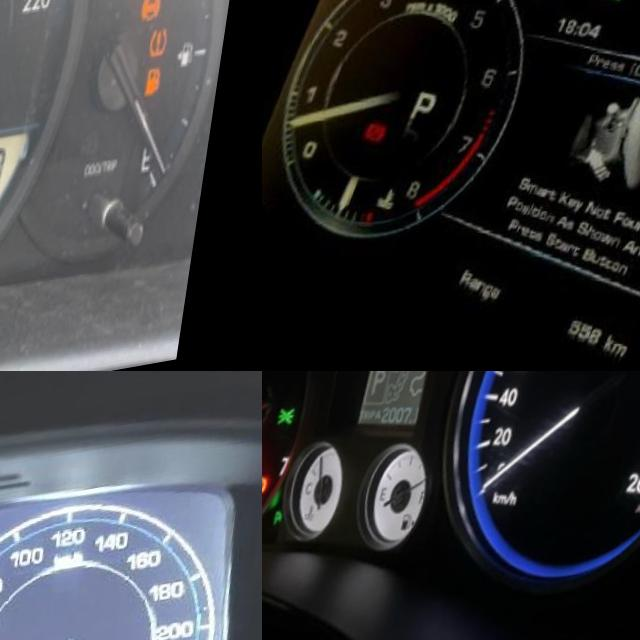Doors: (262, 448, 272, 480)
Engine cooling system: (372, 193, 408, 231)
